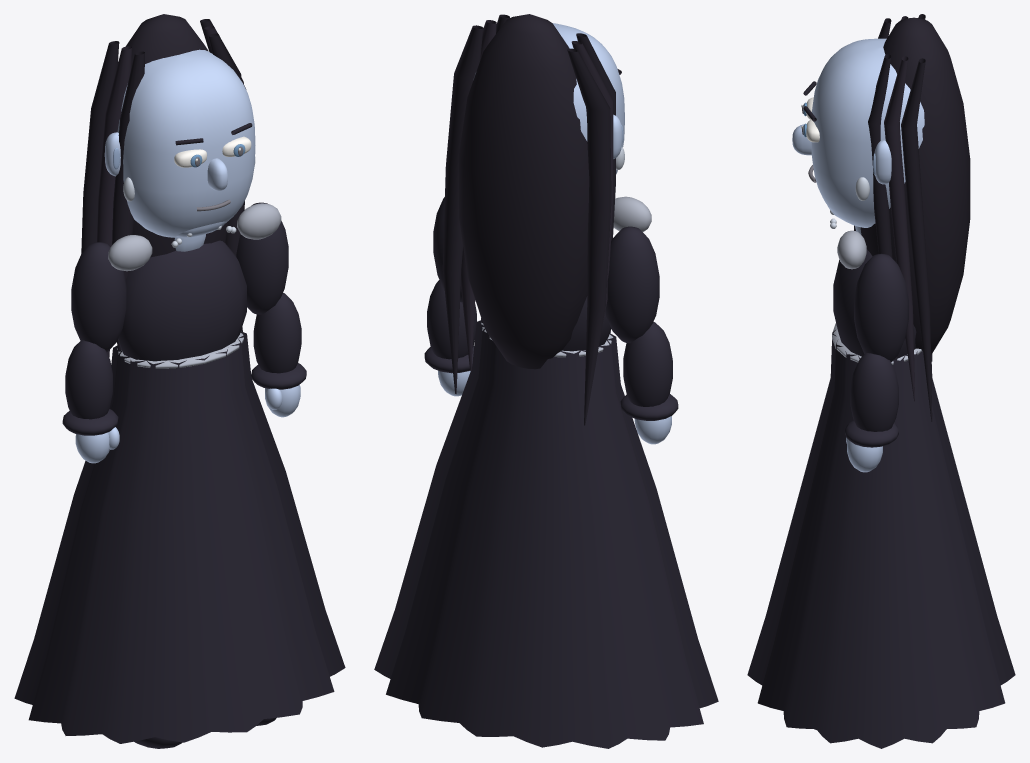
File: ANIZ_CHOMPJAK.glb
3 views of the same model, side by side, from view 1: azimuth 30°, elevation 25°; view 2: azimuth 150°, elevation 25°; view 3: azimuth 270°, elevation 25° (orthographic). The views are drawn at different scales.
Parts seen in each view (by area): view 1: Sixteen pleat bell gown 35, Face 0, Corseted bodice 34, Fitted sleeve 20, Aniz long black hair silhouette 17, Fitted sleeve 28, Aniz loose hair lock -1 2 55, Forearm sleeve 21, Forearm sleeve 29, Aniz loose hair lock -1 1 54, Aniz loose hair lock -1 0 53, Etched shoulder clasp 37 (+8 smaller); view 2: Sixteen pleat bell gown 35, Aniz long black hair silhouette 17, Aniz loose hair lock -1 2 55, Aniz loose hair lock 1 2 58, Fitted sleeve 20, Forearm sleeve 21, Forearm sleeve 29, Face 0, Aniz loose hair lock 1 1 57, Aniz loose hair lock -1 1 54, Etched shoulder clasp 37, Ivory cuff 22 (+5 smaller); view 3: Sixteen pleat bell gown 35, Aniz long black hair silhouette 17, Face 0, Fitted sleeve 28, Aniz loose hair lock 1 2 58, Aniz loose hair lock 1 1 57, Forearm sleeve 29, Aniz loose hair lock 1 0 56, Corseted bodice 34, Etched shoulder clasp 45, Ivory cuff 30, Hand 31 (+1 smaller).
Part boxes in pixels (left/top/right/bottom): Sixteen pleat bell gown 35: left=14, top=327, right=345, bottom=743; Face 0: left=117, top=49, right=255, bottom=237; Corseted bodice 34: left=118, top=240, right=246, bottom=361; Fitted sleeve 20: left=71, top=242, right=126, bottom=352; Aniz long black hair silhouette 17: left=118, top=14, right=227, bottom=257; Fitted sleeve 28: left=236, top=202, right=288, bottom=314; Aniz loose hair lock -1 2 55: left=81, top=41, right=119, bottom=253; Forearm sleeve 21: left=65, top=340, right=112, bottom=419; Forearm sleeve 29: left=253, top=293, right=301, bottom=373; Aniz loose hair lock -1 1 54: left=97, top=46, right=131, bottom=357; Aniz loose hair lock -1 0 53: left=112, top=51, right=144, bottom=350; Etched shoulder clasp 37: left=108, top=235, right=152, bottom=271; Sixteen pleat bell gown 35: left=374, top=318, right=718, bottom=748; Aniz long black hair silhouette 17: left=459, top=14, right=589, bottom=369; Aniz loose hair lock -1 2 55: left=567, top=48, right=611, bottom=425; Aniz loose hair lock 1 2 58: left=442, top=25, right=483, bottom=393; Fitted sleeve 20: left=605, top=226, right=659, bottom=343; Forearm sleeve 21: left=623, top=322, right=672, bottom=406; Forearm sleeve 29: left=427, top=280, right=476, bottom=359; Face 0: left=473, top=23, right=624, bottom=174; Aniz loose hair lock 1 1 57: left=460, top=20, right=496, bottom=370; Aniz loose hair lock -1 1 54: left=571, top=41, right=613, bottom=322; Etched shoulder clasp 37: left=613, top=196, right=651, bottom=231; Ivory cuff 22: left=620, top=394, right=678, bottom=420; Sixteen pleat bell gown 35: left=747, top=330, right=1015, bottom=748; Aniz long black hair silhouette 17: left=860, top=17, right=970, bottom=354; Face 0: left=811, top=38, right=924, bottom=227; Fitted sleeve 28: left=854, top=253, right=908, bottom=362; Aniz loose hair lock 1 2 58: left=901, top=58, right=932, bottom=421; Aniz loose hair lock 1 1 57: left=884, top=56, right=914, bottom=401; Forearm sleeve 29: left=850, top=353, right=898, bottom=431; Aniz loose hair lock 1 0 56: left=868, top=54, right=897, bottom=360; Corseted bodice 34: left=833, top=229, right=916, bottom=358; Etched shoulder clasp 45: left=837, top=230, right=866, bottom=269; Ivory cuff 30: left=845, top=420, right=898, bottom=447; Hand 31: left=847, top=440, right=882, bottom=472.
Bounding box in the file's own units: 0.9159 × 2 × 0.7029.
